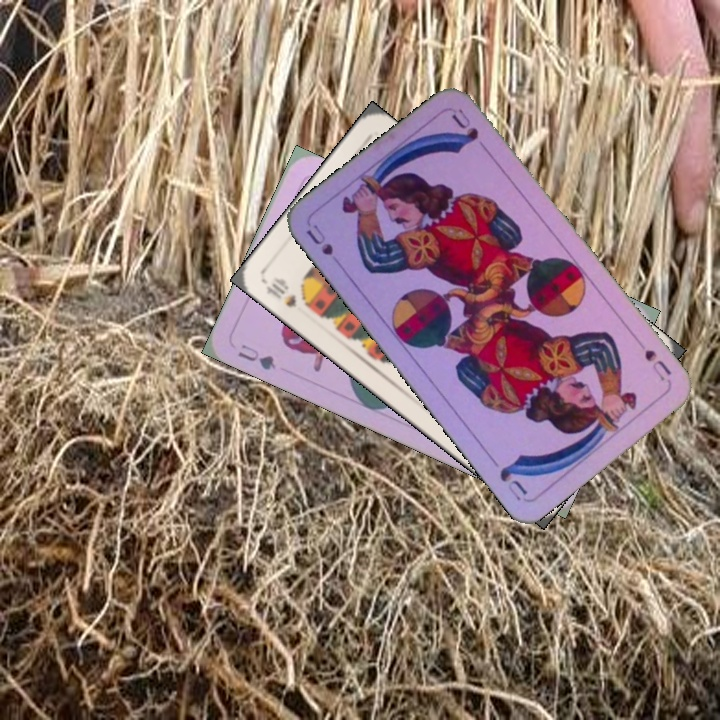GU: (234, 340, 279, 373)
S10: (260, 273, 300, 310)
SU: (302, 219, 347, 273), (640, 345, 674, 384)
